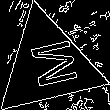M_W: (19, 37, 77, 93)
